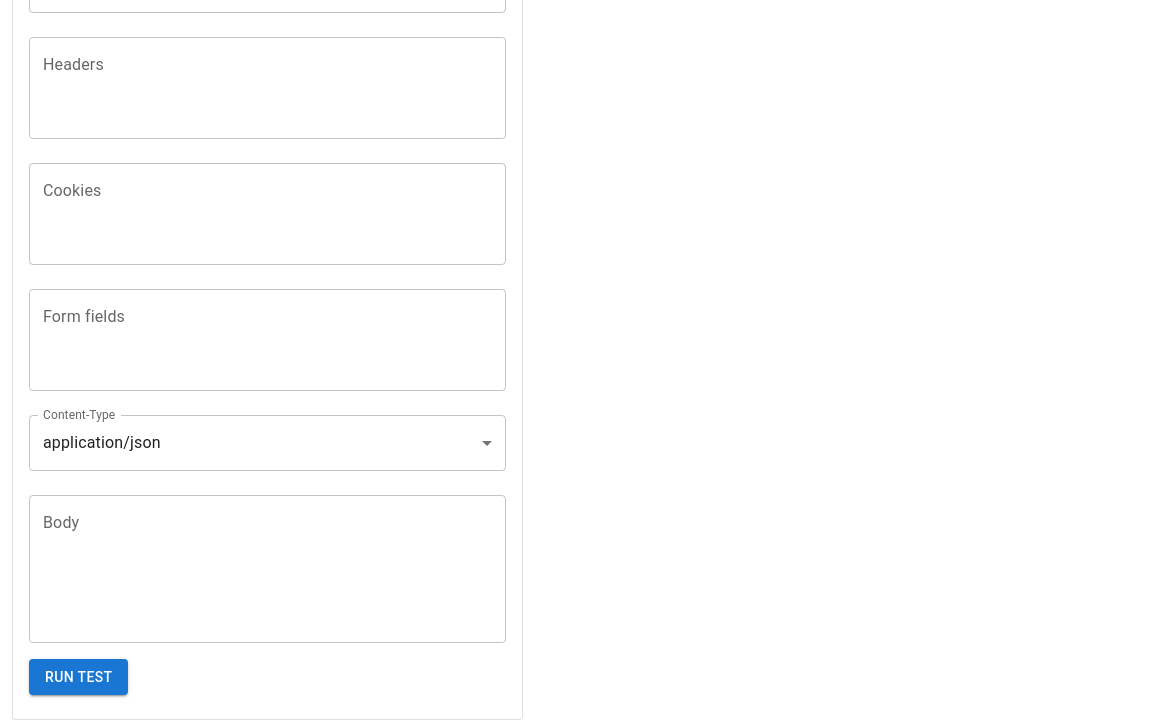
Test: Tester › shows error when testRequest fails
(page scrolled)
Step 1. Click the button "Run test" → (79, 677), box [29,659,128,695]
(page scrolled)
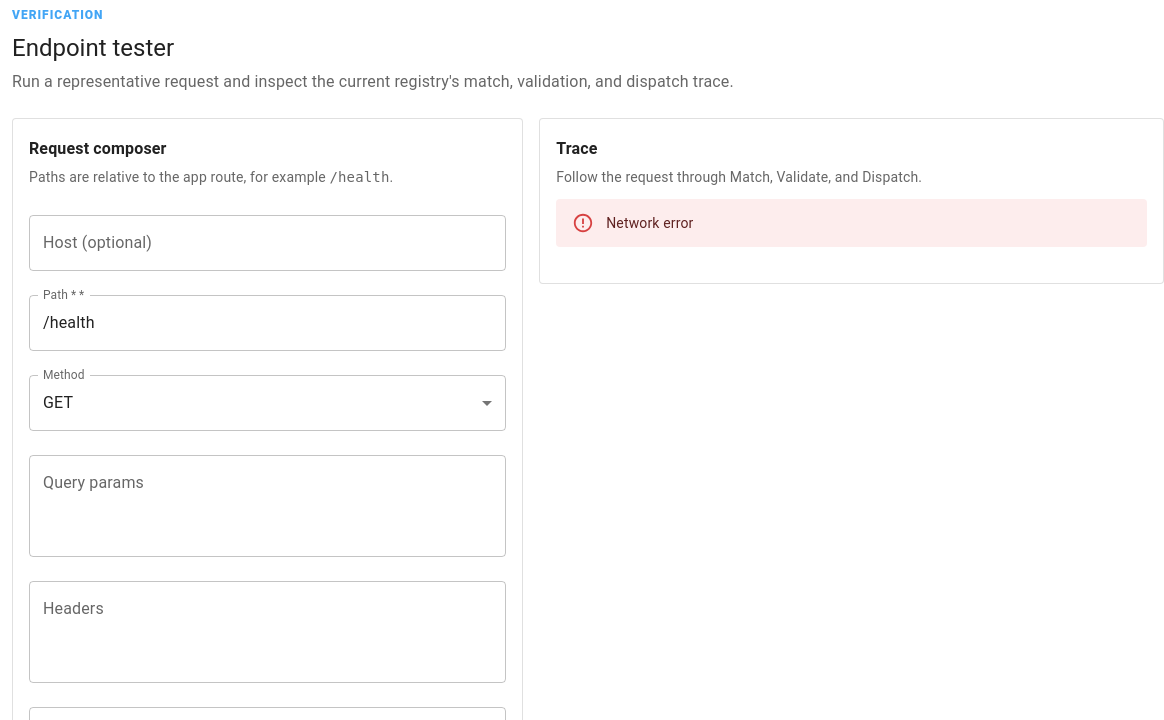
Now the text "Network error" is shown, box [606,215,694,231]
